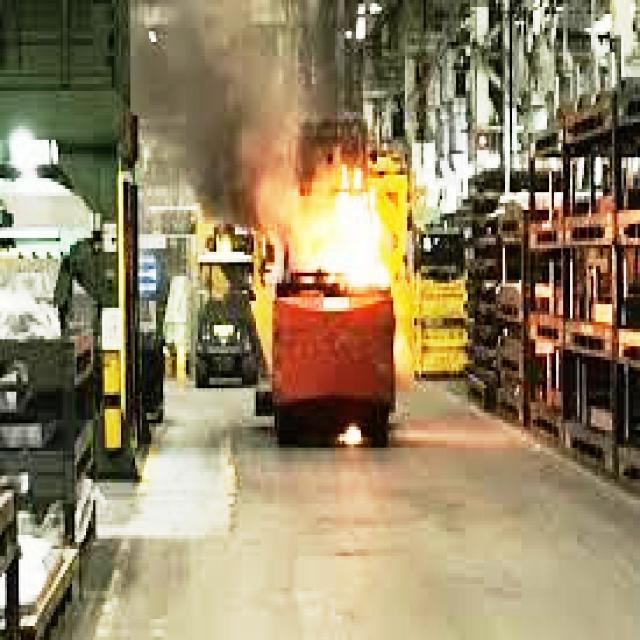api: (264, 179, 394, 295)
